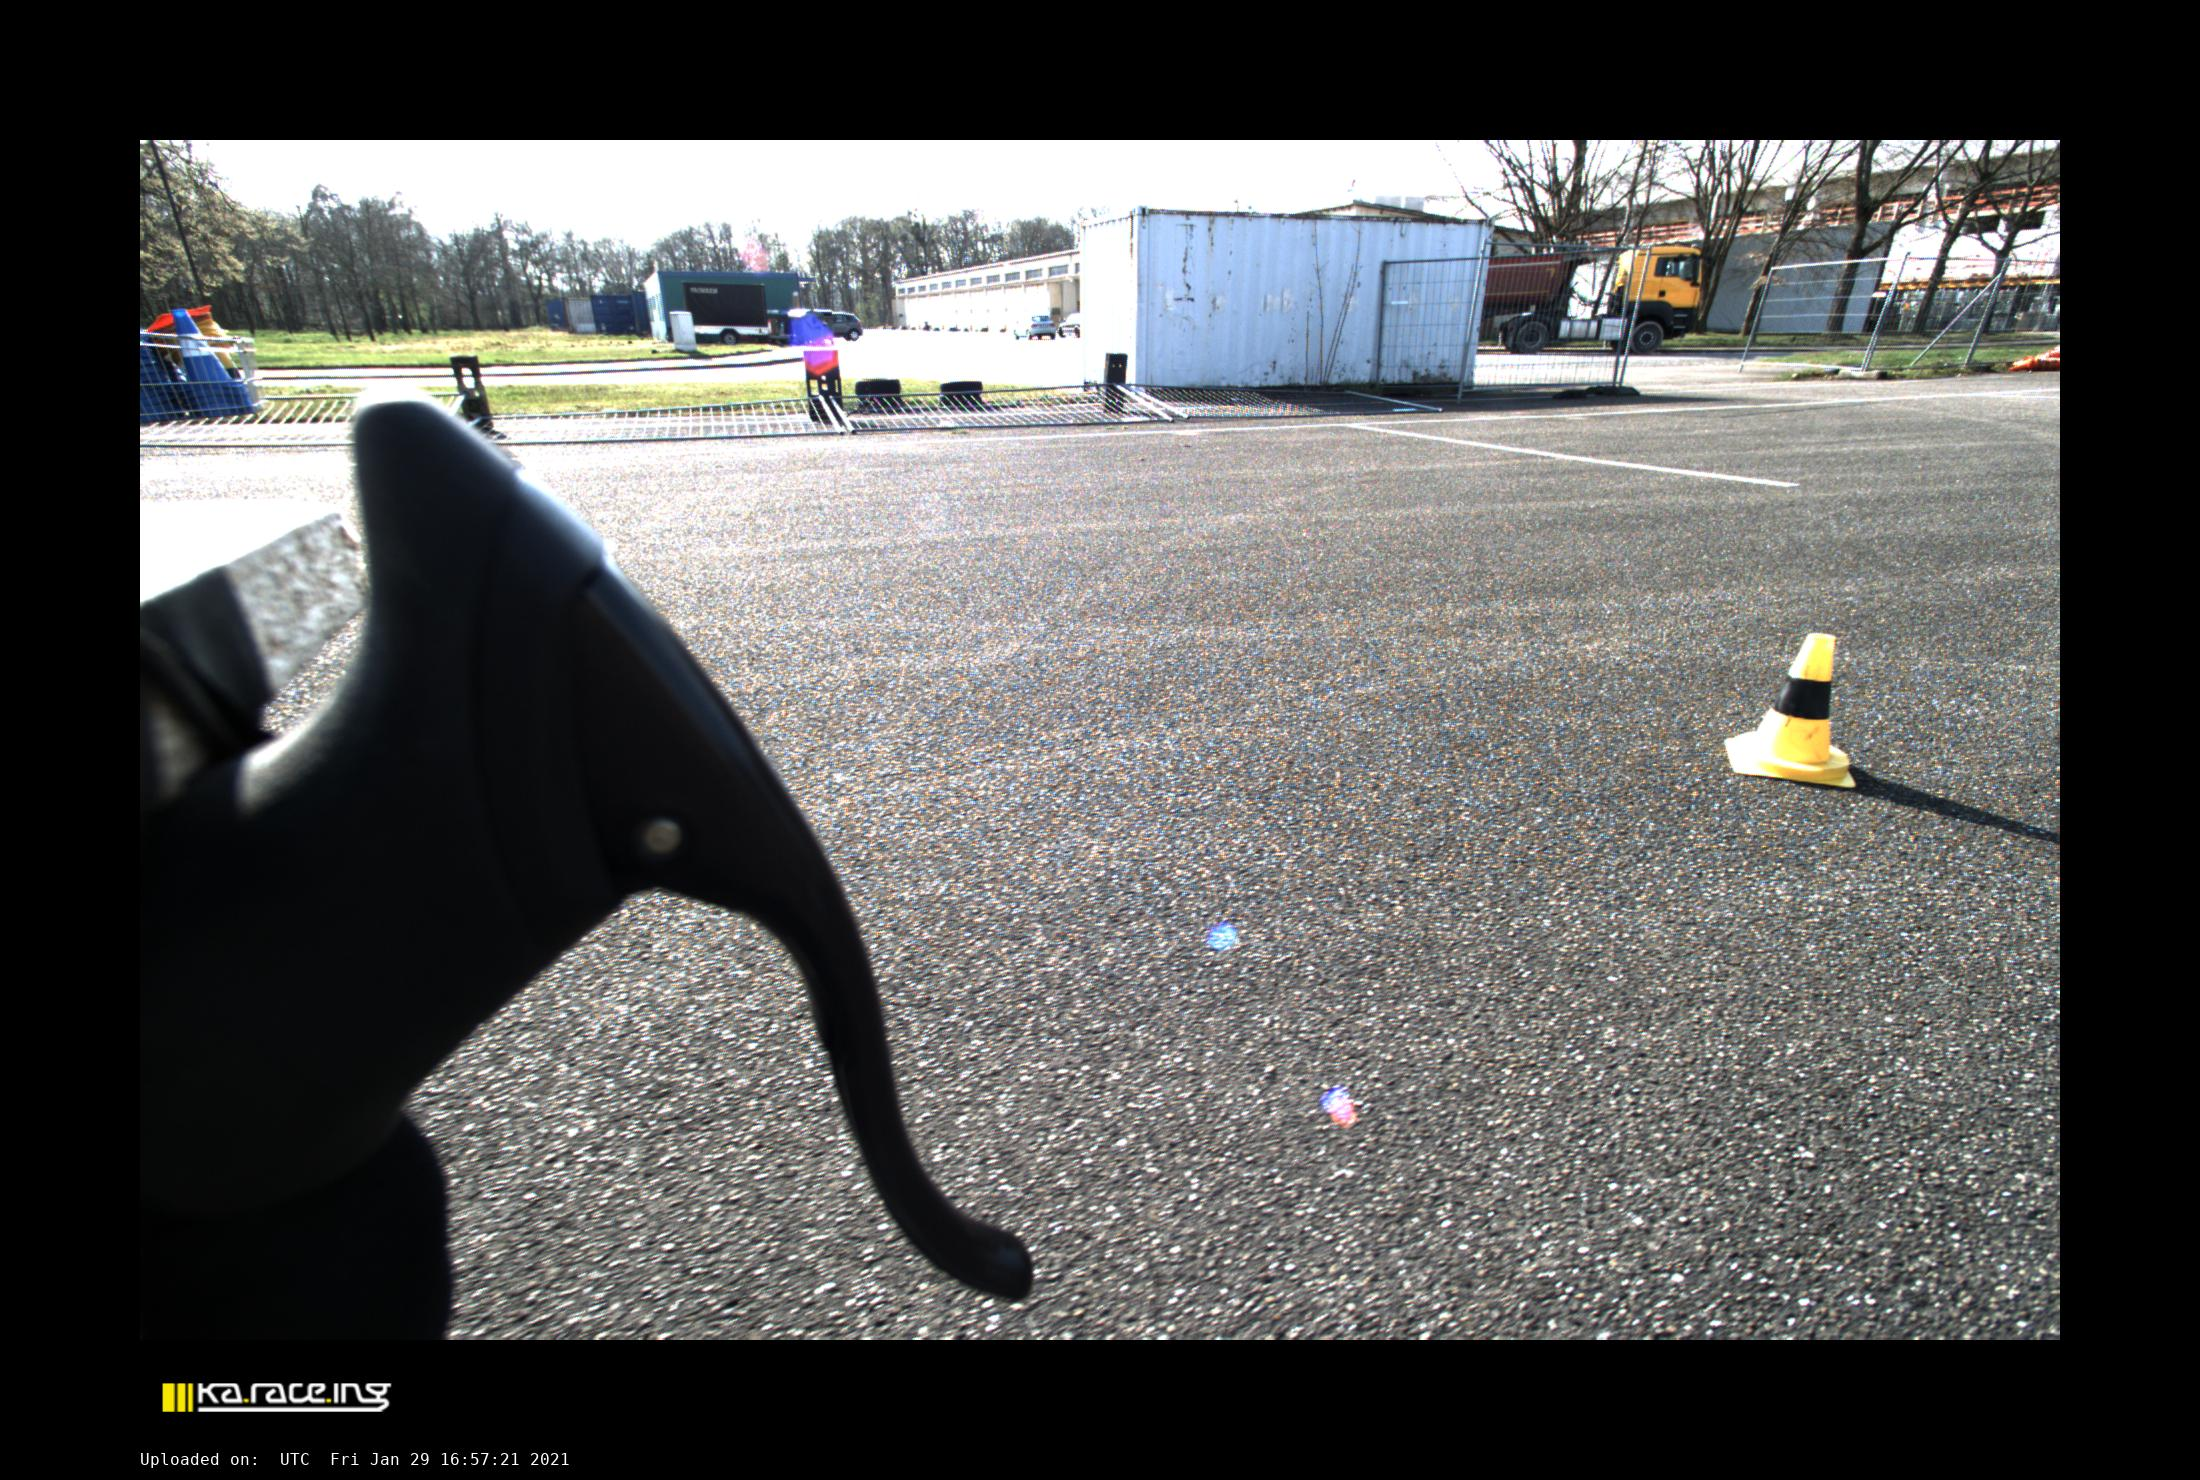blue_cone: (172, 307, 244, 391)
yellow_cone: (1724, 633, 1856, 788), (206, 340, 243, 378)
